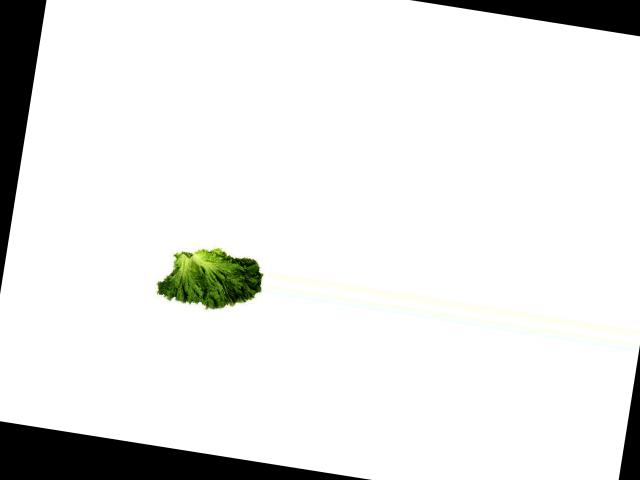lettuce: (154, 236, 267, 323)
